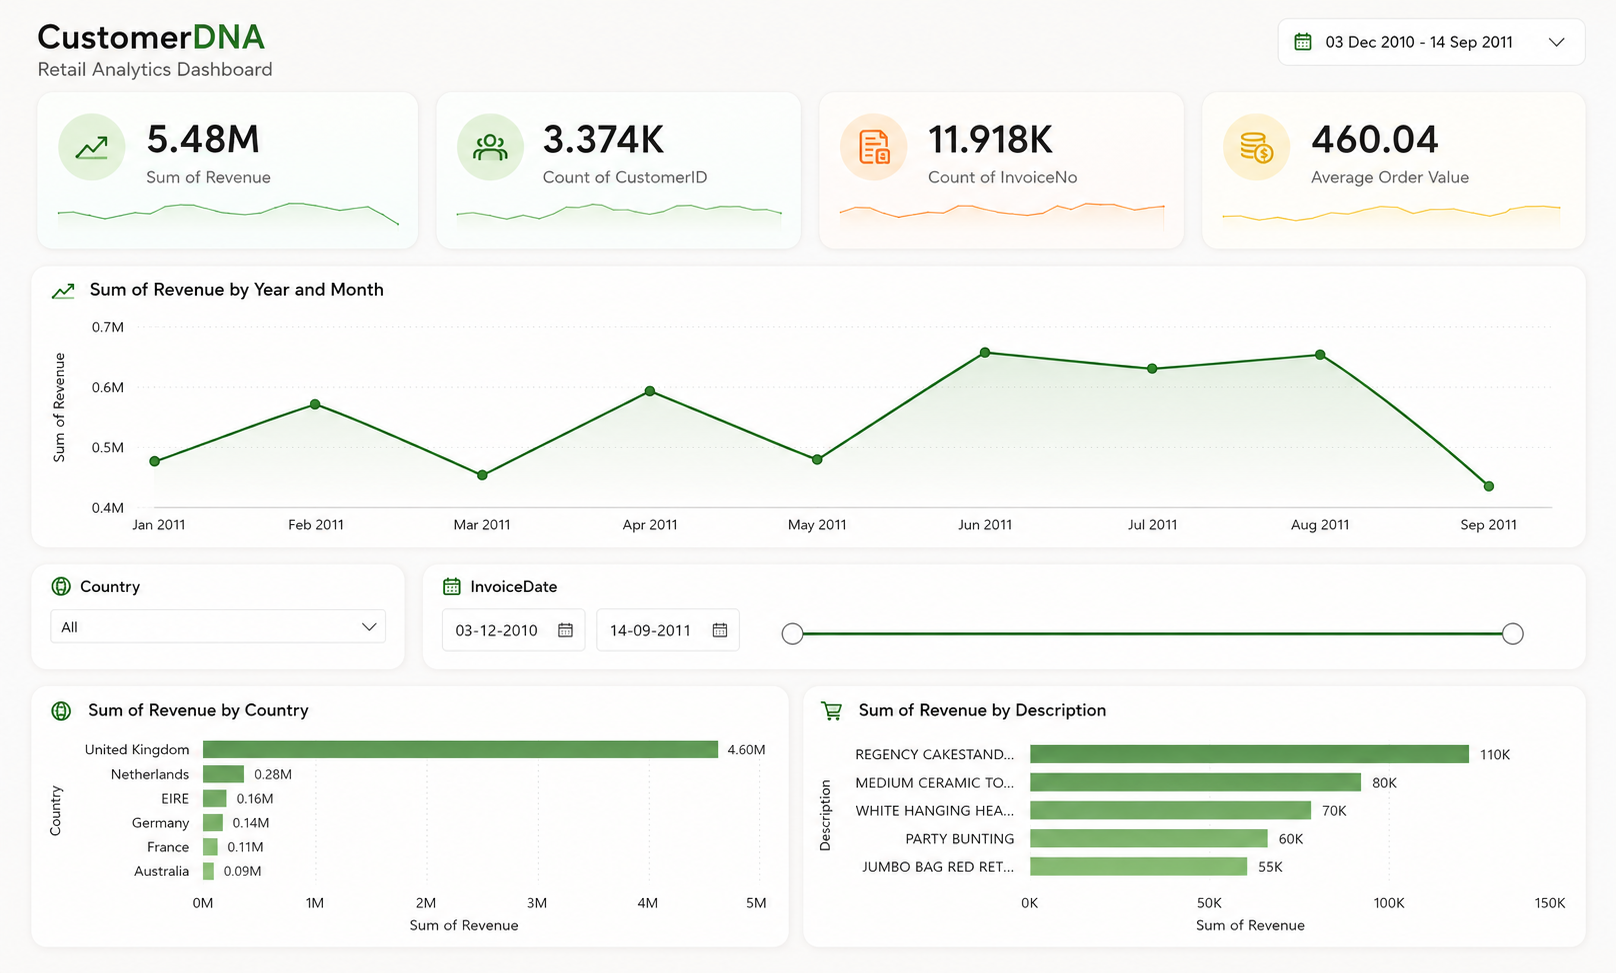

This screenshot's page, from the dashboard's own definition file:
{"tool":"powerbi","page":{"name":"Page 3","canvas":[1280,720],"ordinal":2},"visuals":[{"type":"cardVisual","fields":{"Data":["Sum(customerdna_clean.Revenue)"]},"box":[30,25,280,116.2],"z":0},{"type":"cardVisual","fields":{"Data":["Count(customerdna_clean.CustomerID)"]},"box":[310,32.5,280,108.8],"z":1},{"type":"cardVisual","fields":{"Data":["Count(customerdna_clean.InvoiceNo)"]},"box":[590,32.5,280,108.8],"z":2},{"type":"cardVisual","fields":{"Data":["customerdna_clean.Average Order Value"]},"box":[900,32.5,280,108.8],"z":3},{"type":"lineChart","fields":{"Y":["Sum(customerdna_clean.Revenue)"],"Category":["customerdna_clean.InvoiceDate.Variation.Date Hierarchy.Year","customerdna_clean.InvoiceDate.Variation.Date Hierarchy.Month"]},"box":[35,141.2,1122.5,146.2],"z":4},{"type":"clusteredBarChart","fields":{"Category":["customerdna_clean.Country"],"Y":["Sum(customerdna_clean.Revenue)"]},"box":[0,503.8,606.2,216.2],"z":5},{"type":"clusteredBarChart","fields":{"Category":["customerdna_clean.Description"],"Y":["Sum(customerdna_clean.Revenue)"]},"box":[606.2,515,565,205],"z":6},{"type":"slicer","fields":{"Values":["customerdna_clean.Country"]},"box":[30,287.5,375,200],"z":7},{"type":"slicer","fields":{"Values":["customerdna_clean.InvoiceDate"]},"box":[418.8,287.5,752.5,200],"z":8}]}

Visuals, with their boxes on the page's 1280x720 design canvas (x1, y1, x2, y2). These are canvas units, not pixel positions in the 1616x973 screenshot, which may show the page scaled, cropped or inside an application window:
cardVisual - Sum(customerdna_clean.Revenue): (left=30, top=25, right=310, bottom=141)
cardVisual - Count(customerdna_clean.CustomerID): (left=310, top=32, right=590, bottom=141)
cardVisual - Count(customerdna_clean.InvoiceNo): (left=590, top=32, right=870, bottom=141)
cardVisual - customerdna_clean.Average Order Value: (left=900, top=32, right=1180, bottom=141)
lineChart - Sum(customerdna_clean.Revenue) x customerdna_clean.InvoiceDate.Variation.Date Hierarchy.Year: (left=35, top=141, right=1158, bottom=287)
clusteredBarChart - customerdna_clean.Country x Sum(customerdna_clean.Revenue): (left=0, top=504, right=606, bottom=720)
clusteredBarChart - customerdna_clean.Description x Sum(customerdna_clean.Revenue): (left=606, top=515, right=1171, bottom=720)
slicer - customerdna_clean.Country: (left=30, top=288, right=405, bottom=488)
slicer - customerdna_clean.InvoiceDate: (left=419, top=288, right=1171, bottom=488)
